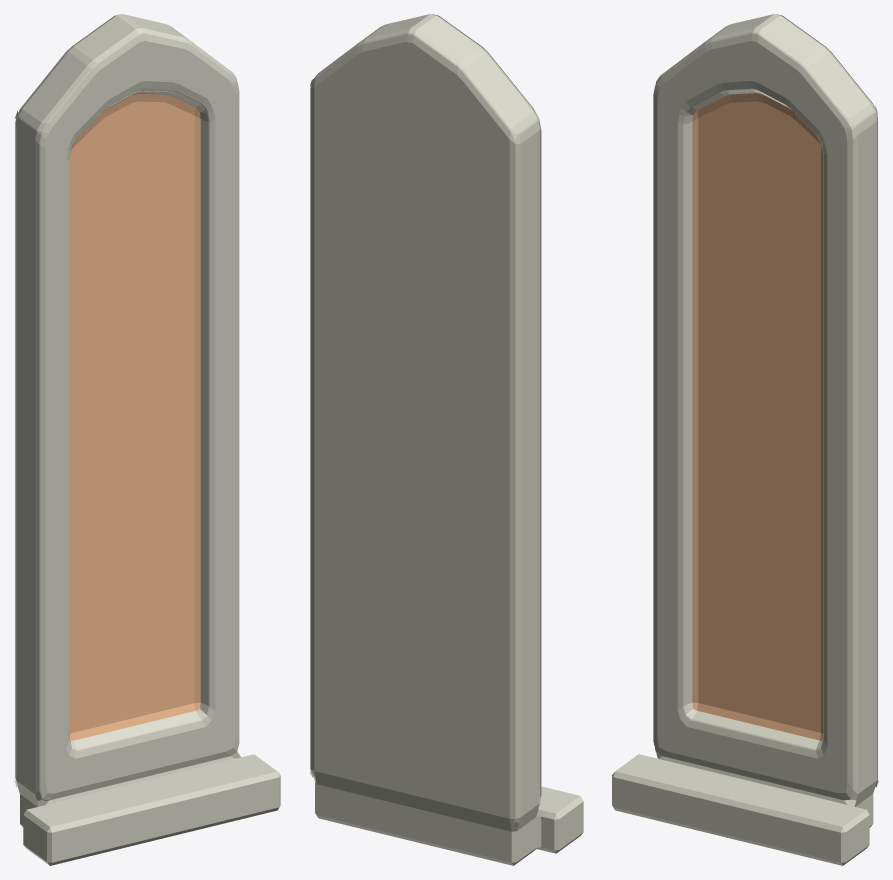
Rendered from window2_textured.fbx.
The picture shows the model from 3 angles, left to right: view 1: azimuth 30°, elevation 25°; view 2: azimuth 150°, elevation 25°; view 3: azimuth 330°, elevation 25°; orthographic projection. The views are drawn at different scales.
Parts seen in each view (by area): view 1: Cube.020; view 2: Cube.020; view 3: Cube.020.
Part boxes in pixels (x1,y1,x2,y2): Cube.020: [14, 14, 280, 865]; Cube.020: [309, 14, 583, 865]; Cube.020: [612, 14, 878, 865].
Size of the model in its own units: 28.8 by 92.94 by 11.05.
